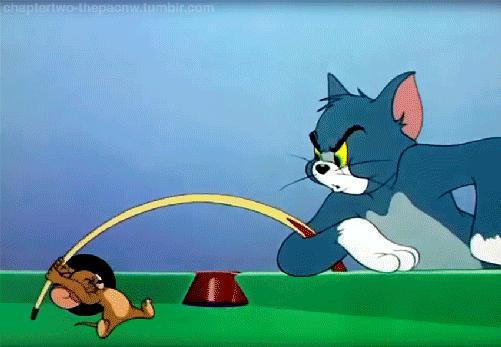jerry: (44, 259, 160, 339)
